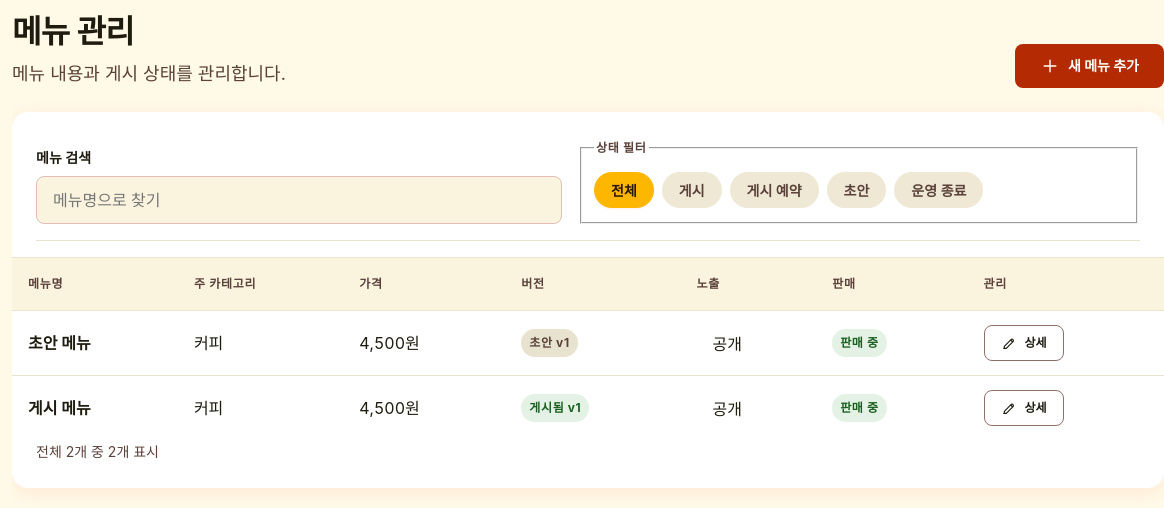
메뉴 목록 화면 › 상태 필터로 목록을 좁힌다
Expected: the column heading "초안 메뉴" is shown, [12, 311, 178, 375]
Click the button "게시": (692, 190) [662, 172, 722, 208]
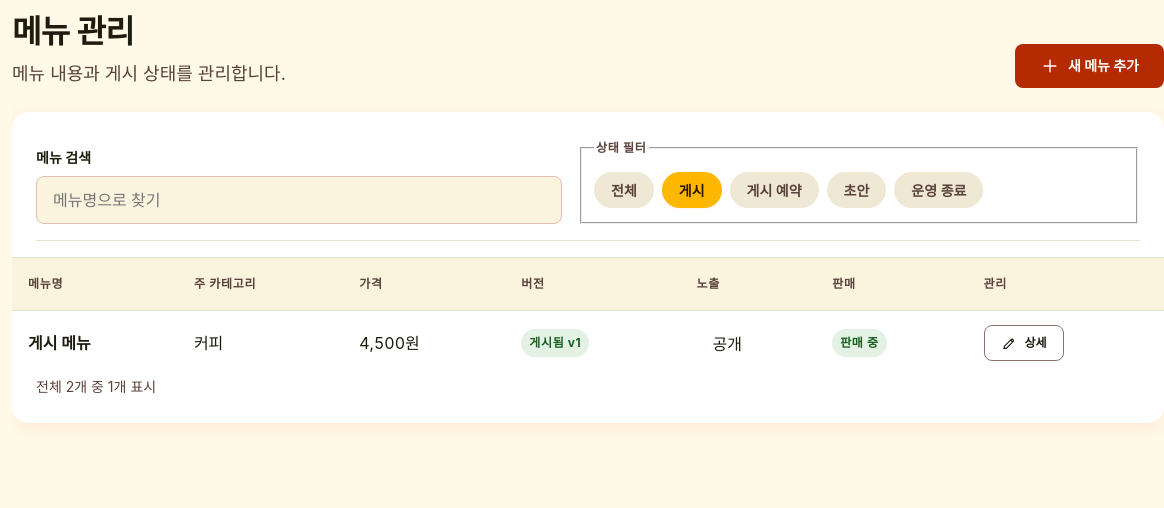
Expected: the column heading "게시 메뉴" is shown, [12, 311, 178, 375]
Result: the column heading "초안 메뉴" is gone
